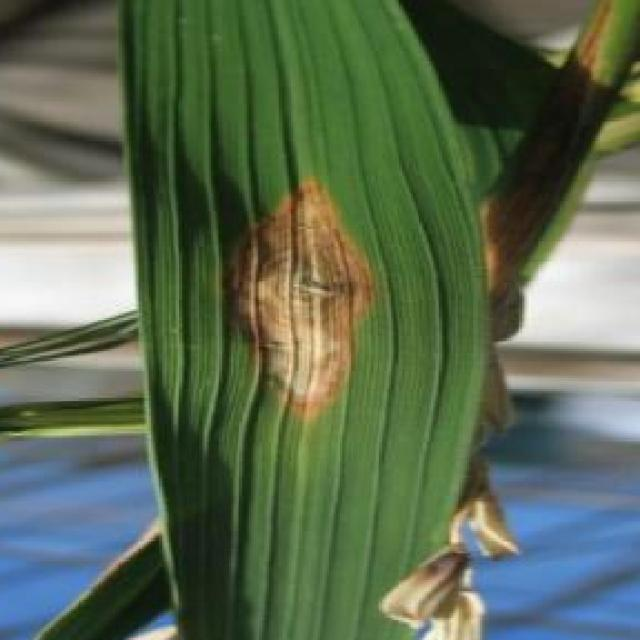Leaf_Blast: (204, 140, 413, 433)
